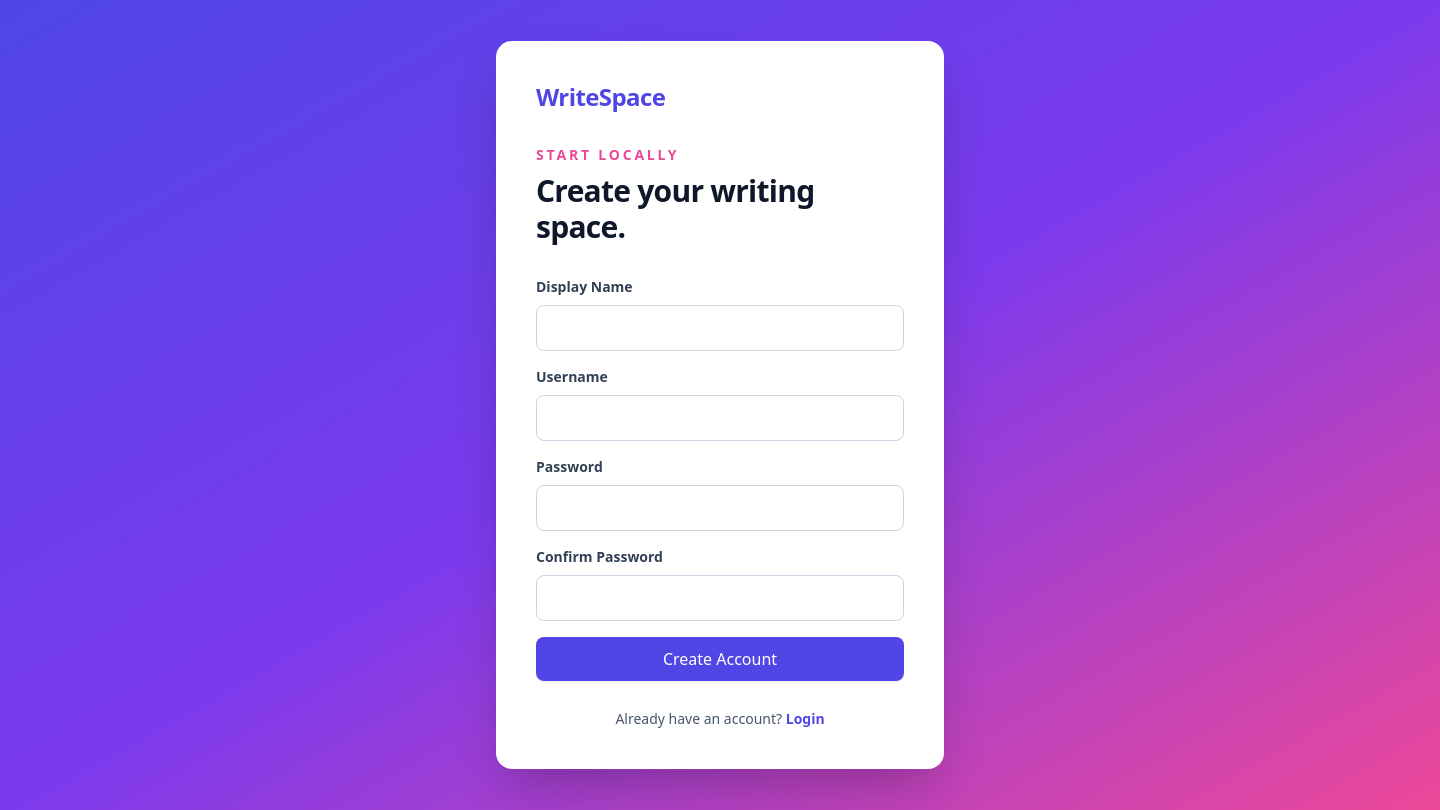
Scenario: authentication pages › shows a form error and does not start a session or navigate when saving a registration fails
In the field labelled "Display Name": (720, 328) x1=536 y1=305 x2=904 y2=351, type "Failure Writer"
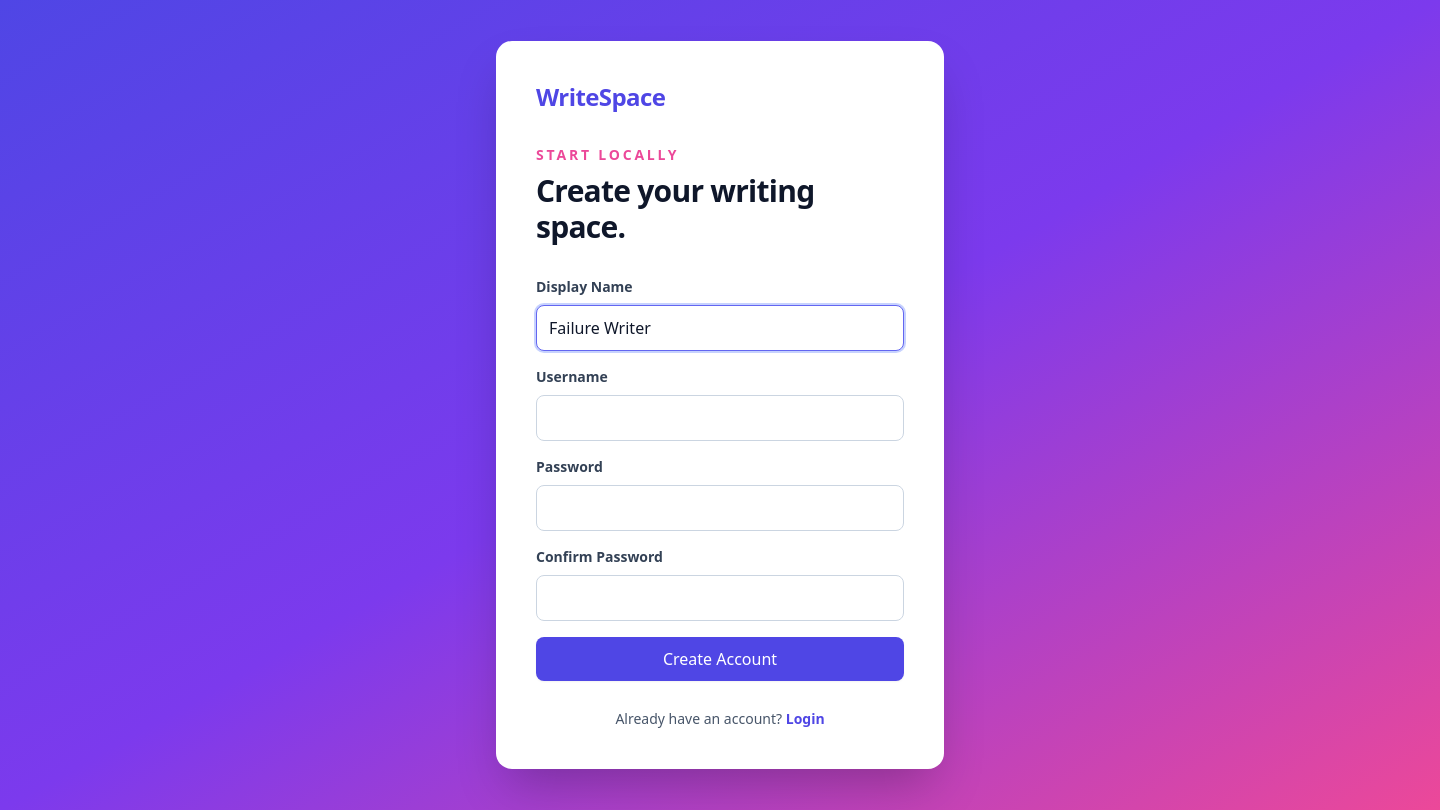
In the field labelled "Username": (720, 418) x1=536 y1=395 x2=904 y2=441, type "failure-writer"
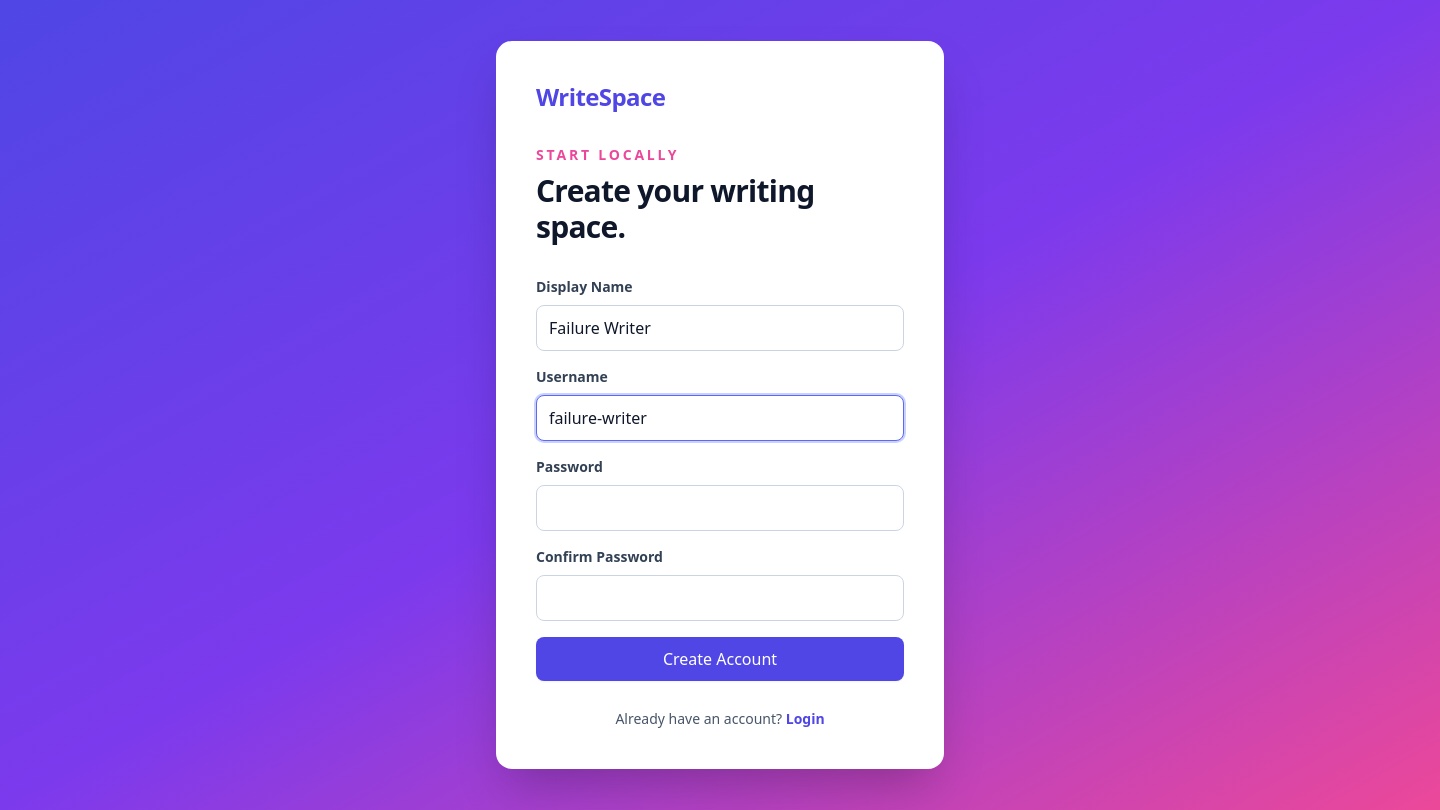
In the password field labelled "Password": (720, 508) x1=536 y1=485 x2=904 y2=531, type "secret"
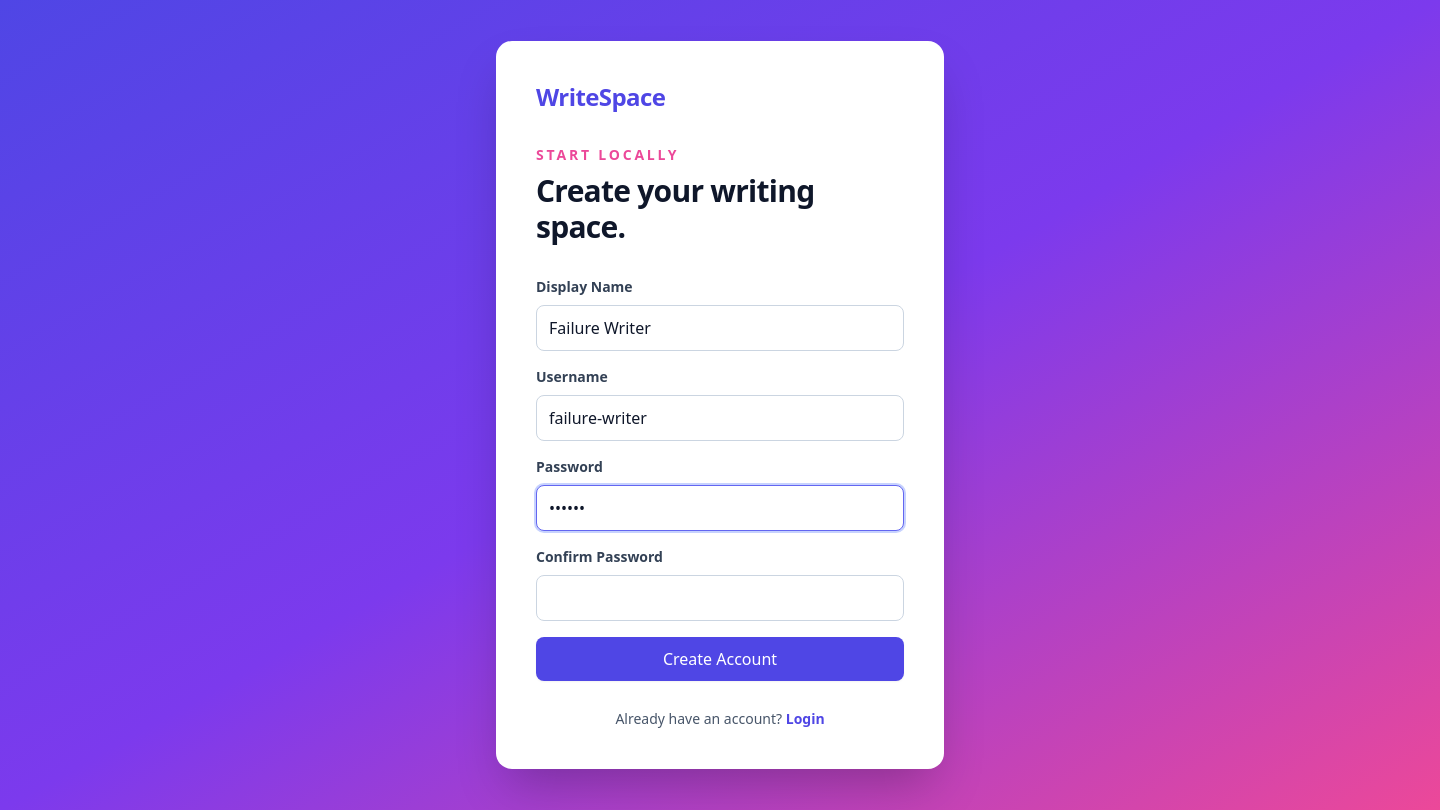
In the password field labelled "Confirm Password": (720, 598) x1=536 y1=575 x2=904 y2=621, type "secret"
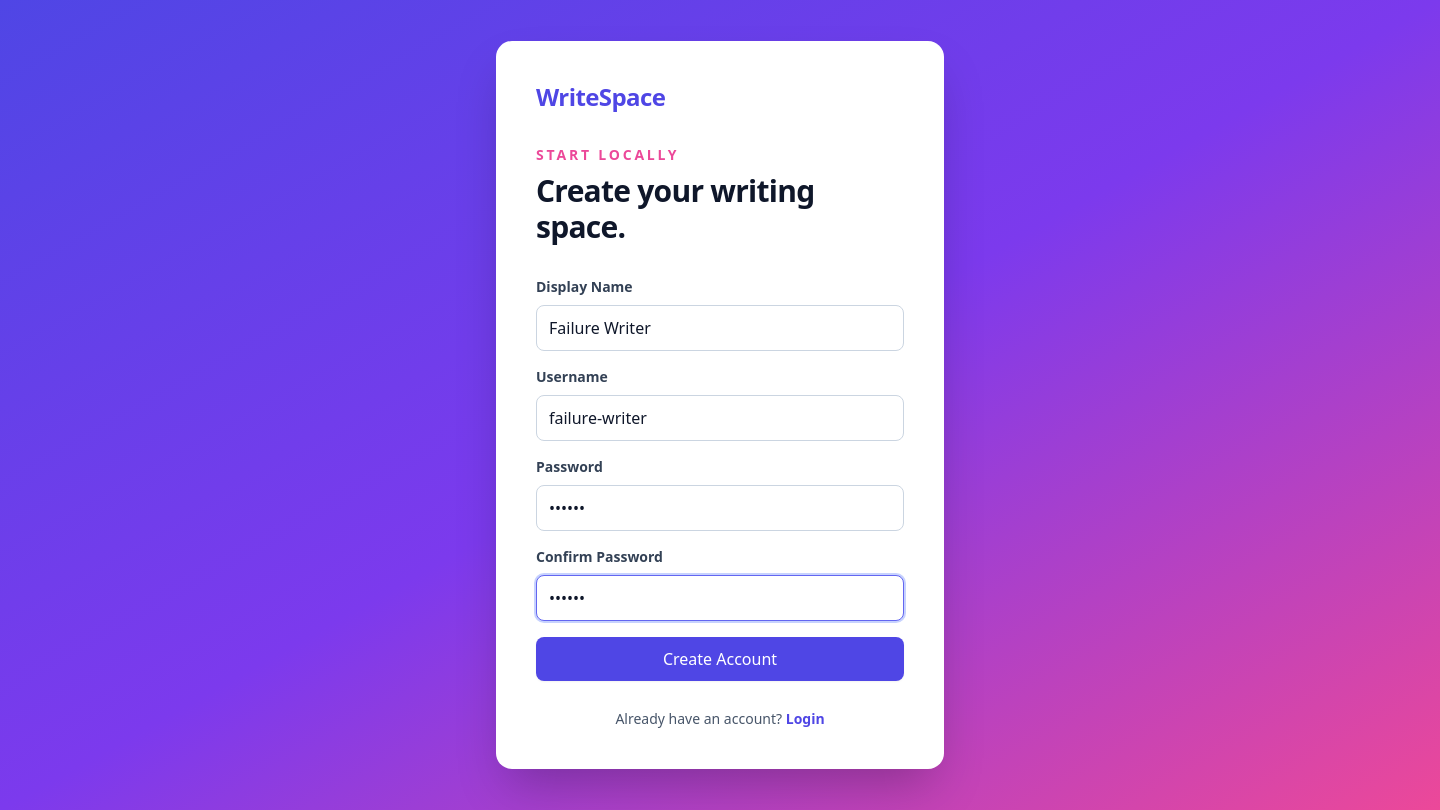
Click the button "Create Account": (720, 659) x1=536 y1=637 x2=904 y2=681
(page scrolled)
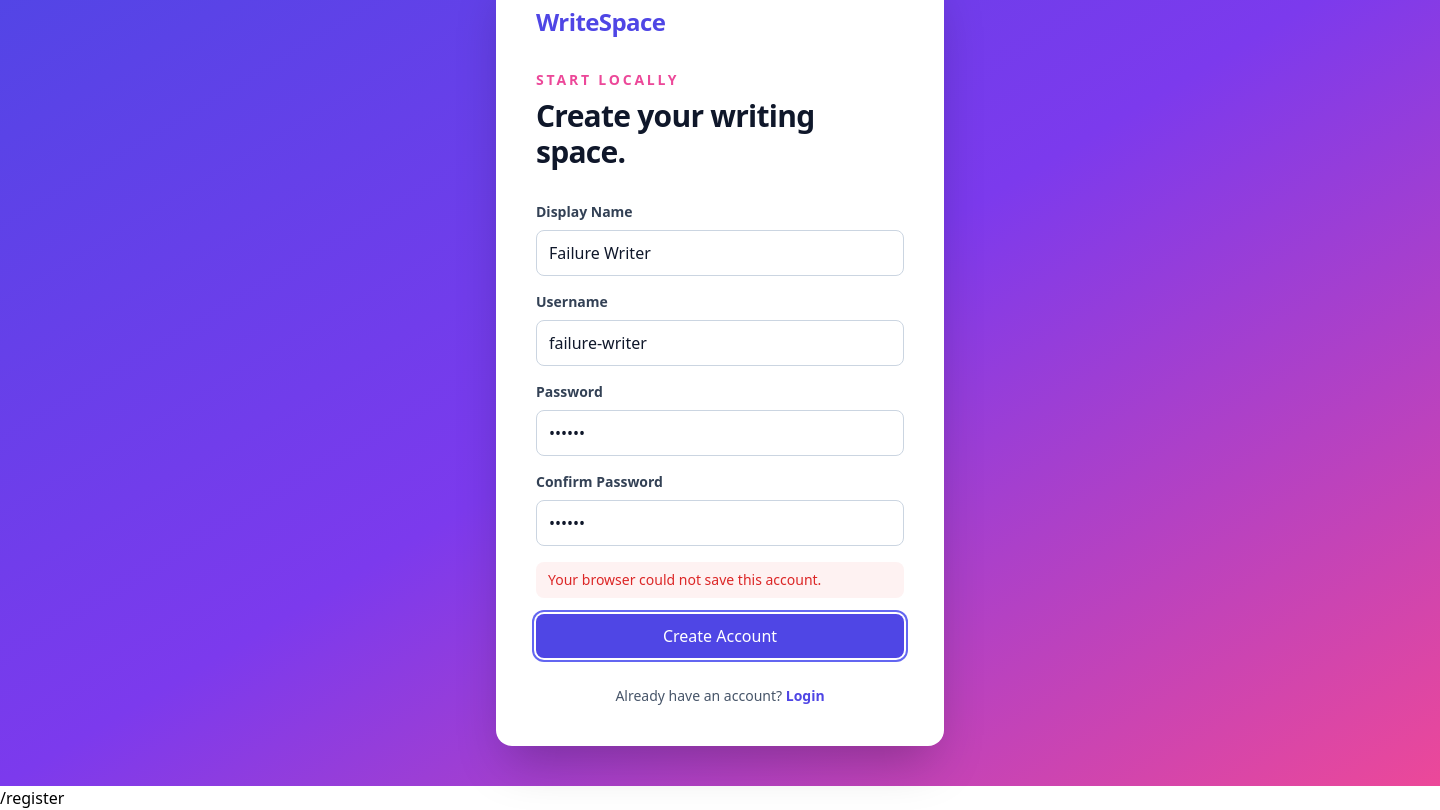
expect the text with test id "location" reads "/register": met, box x1=0 y1=787 x2=64 y2=809
expect the message reads "Your browser could not save this account.": met, box x1=548 y1=570 x2=821 y2=589
